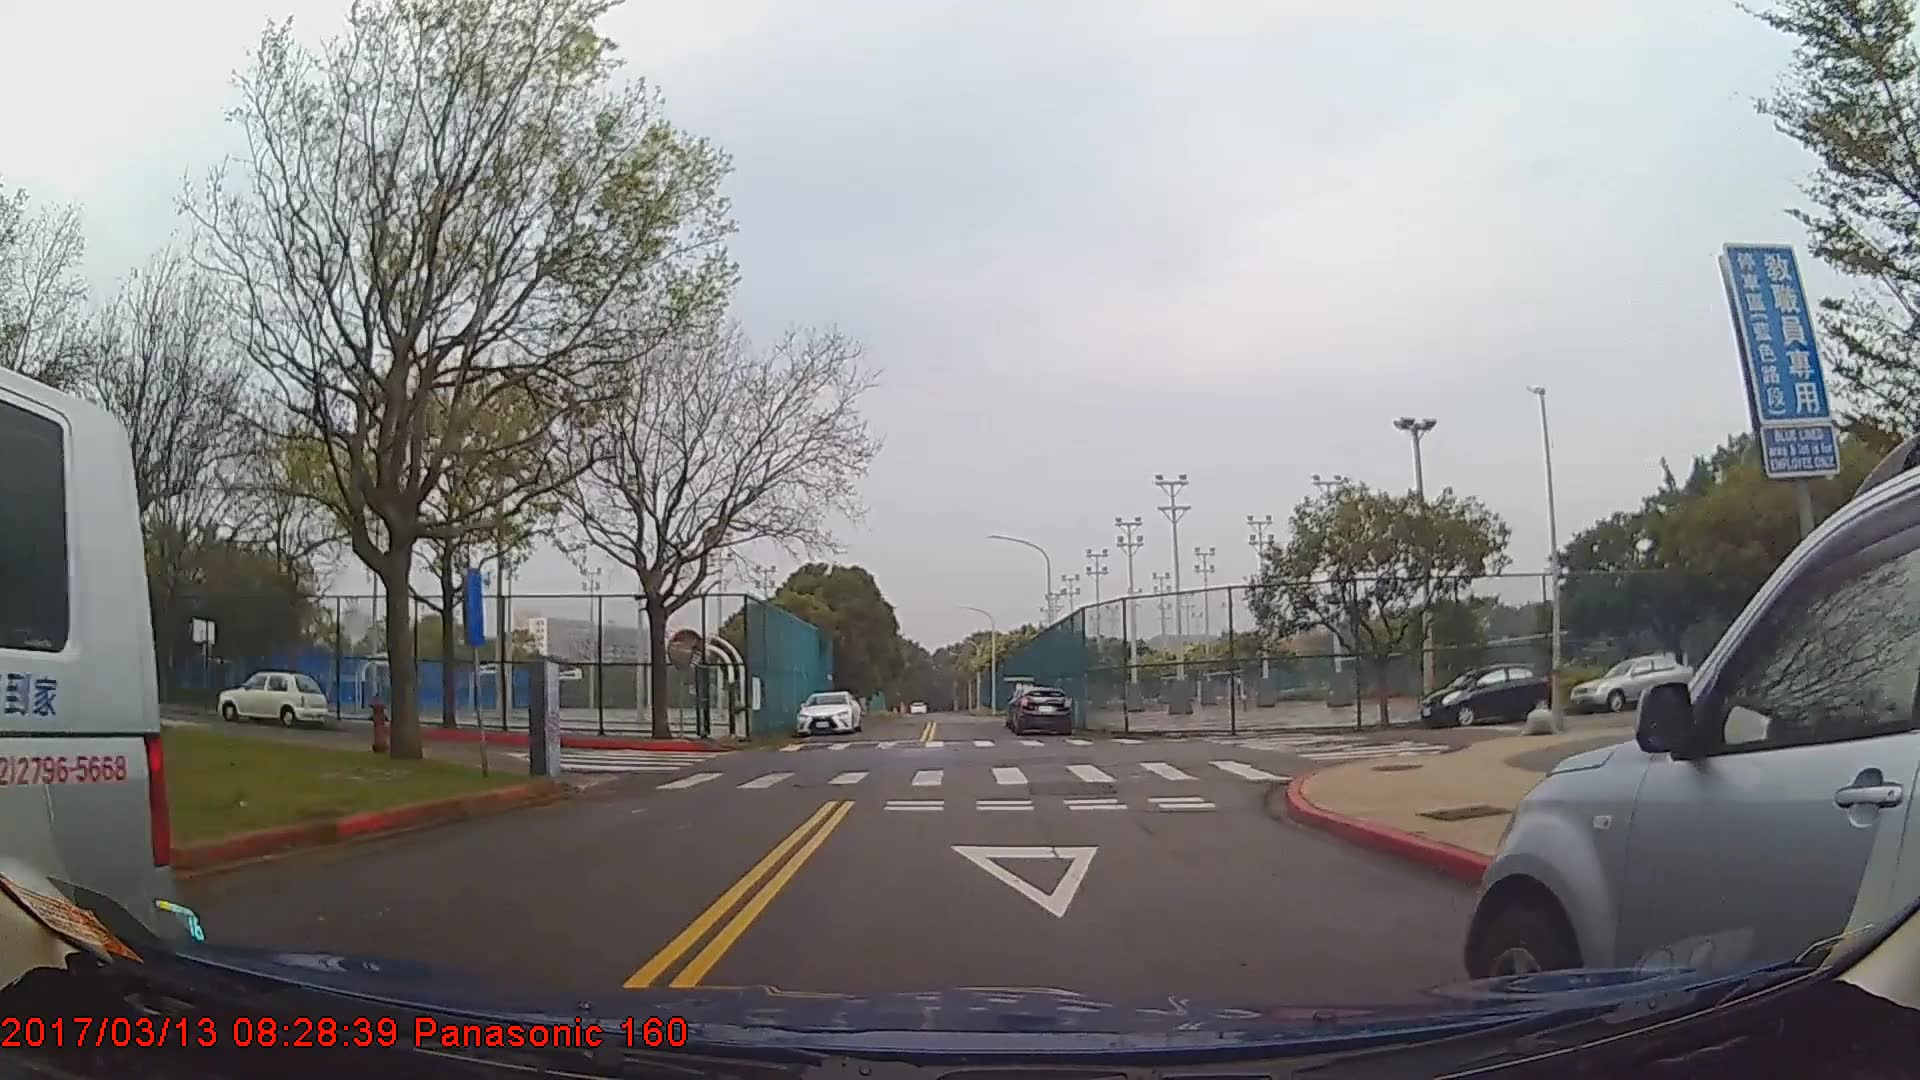vehicle: (1458, 459, 1920, 1048), (1419, 663, 1549, 727), (1568, 649, 1691, 709), (216, 669, 328, 728), (1009, 683, 1073, 735), (796, 688, 860, 735)
